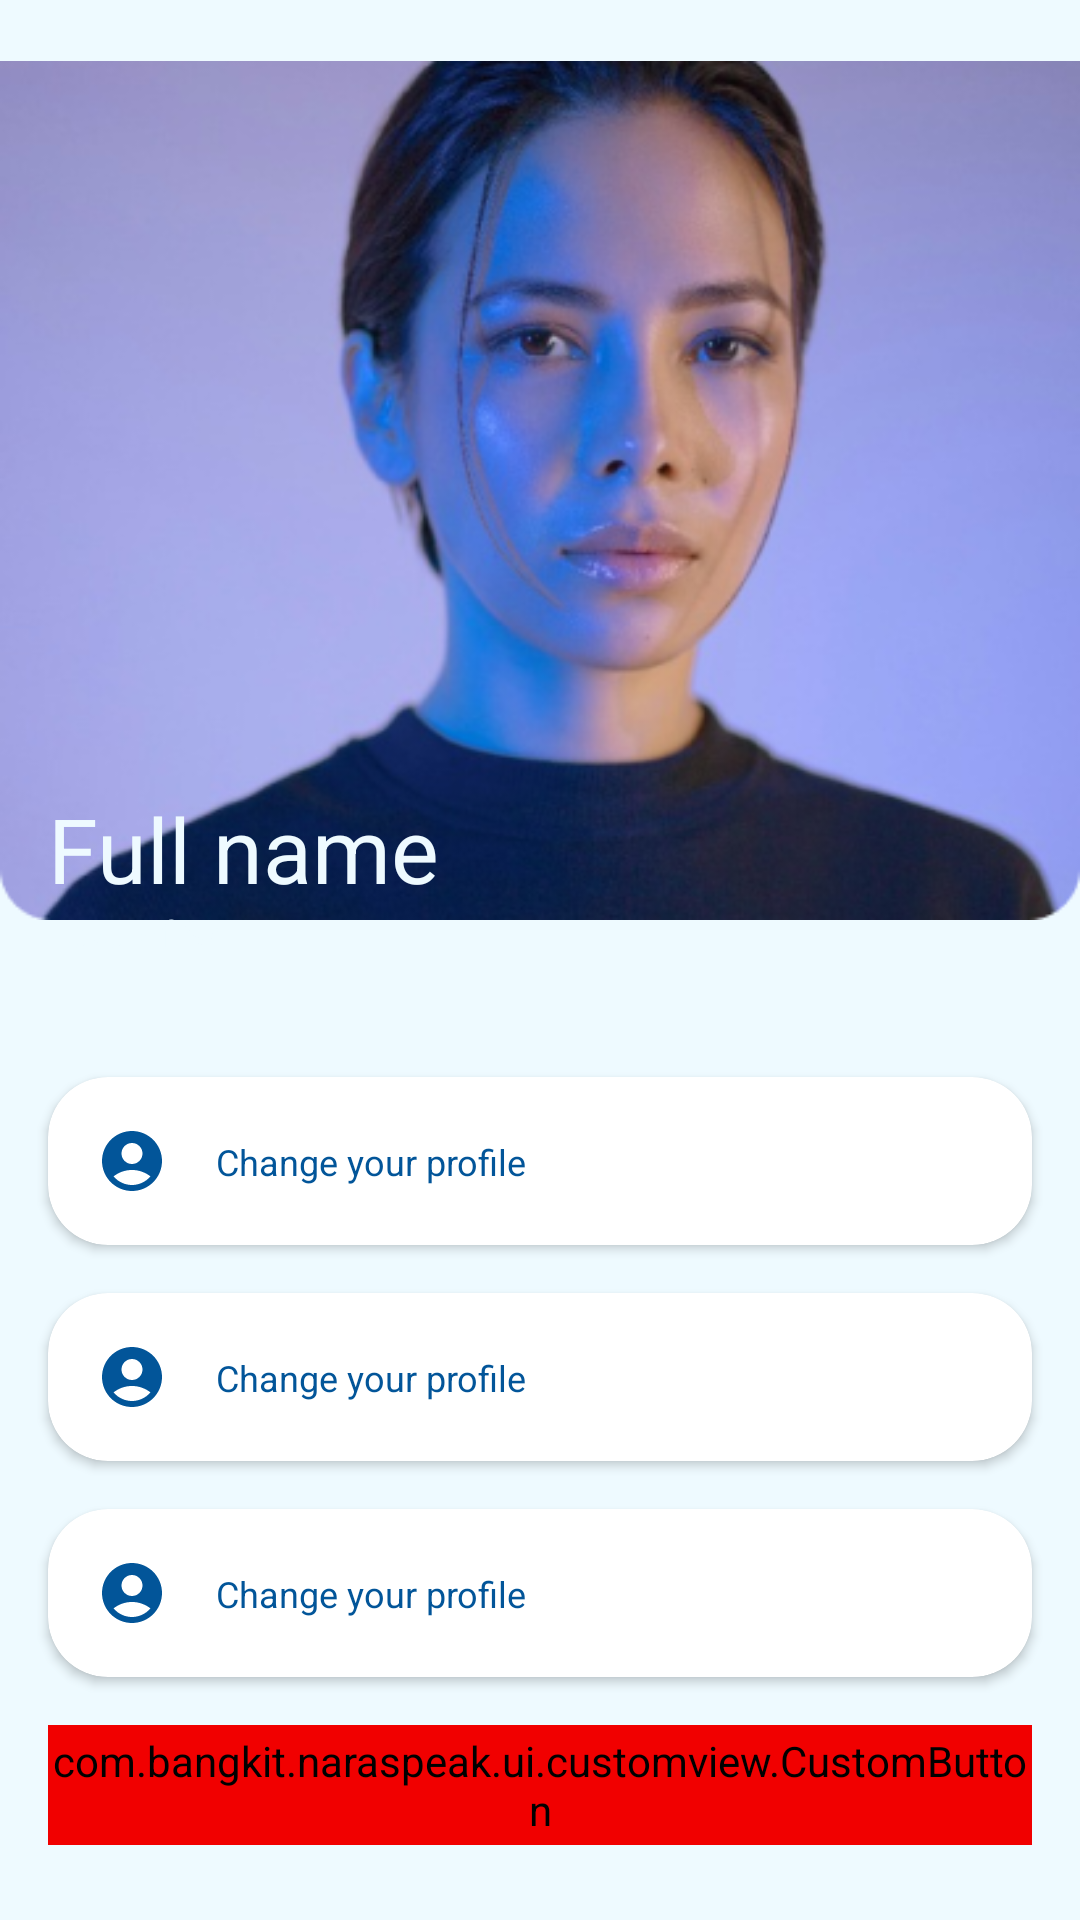

Icons on this 1080px×1920px Android screen, each with the point to tap as point (x, y):
account circle: point (132, 1161), point (132, 1377), point (132, 1593)
